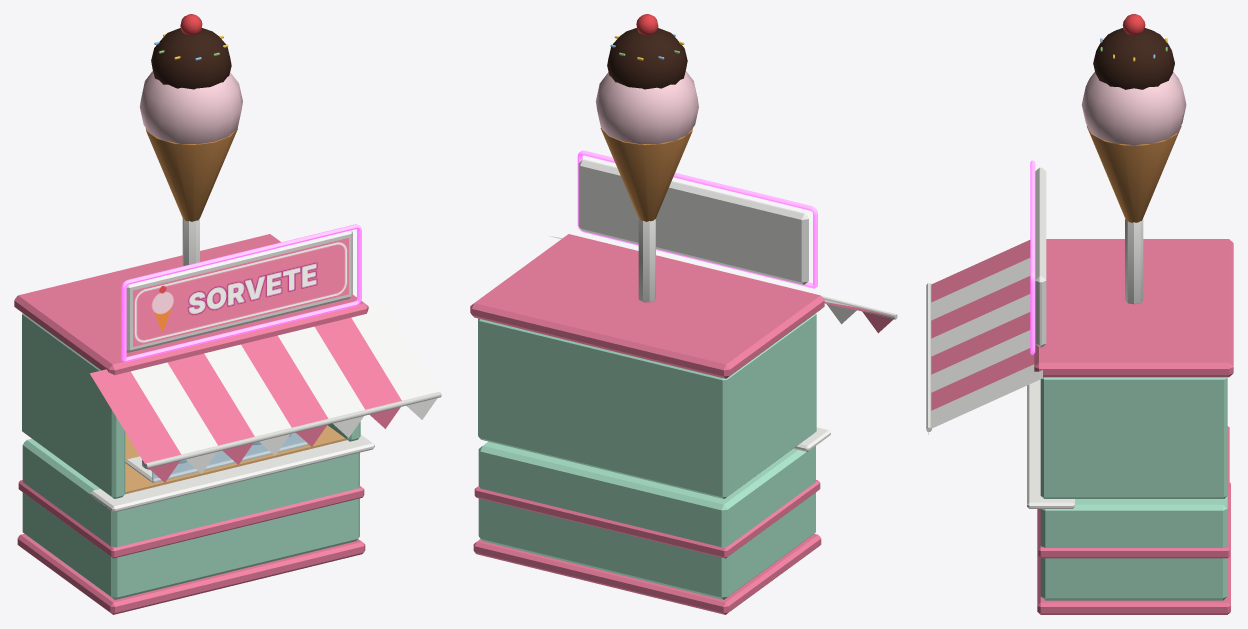
File: quiosque_sorvete.glb
3 views of the same model, side by side, from view 1: azimuth 30°, elevation 25°; view 2: azimuth 150°, elevation 25°; view 3: azimuth 270°, elevation 25° (orthographic).
Visible parts, largest first — view 1: quiosque_sorvete; view 2: quiosque_sorvete; view 3: quiosque_sorvete.
Boxes of the visible parts, left/top/right/bottom form: quiosque_sorvete: left=14, top=14, right=441, bottom=614; quiosque_sorvete: left=470, top=14, right=897, bottom=614; quiosque_sorvete: left=926, top=14, right=1233, bottom=614.
Size of the model in its own units: 3 by 5.22 by 2.7.
Materials: 5 (2 with a texture image).
